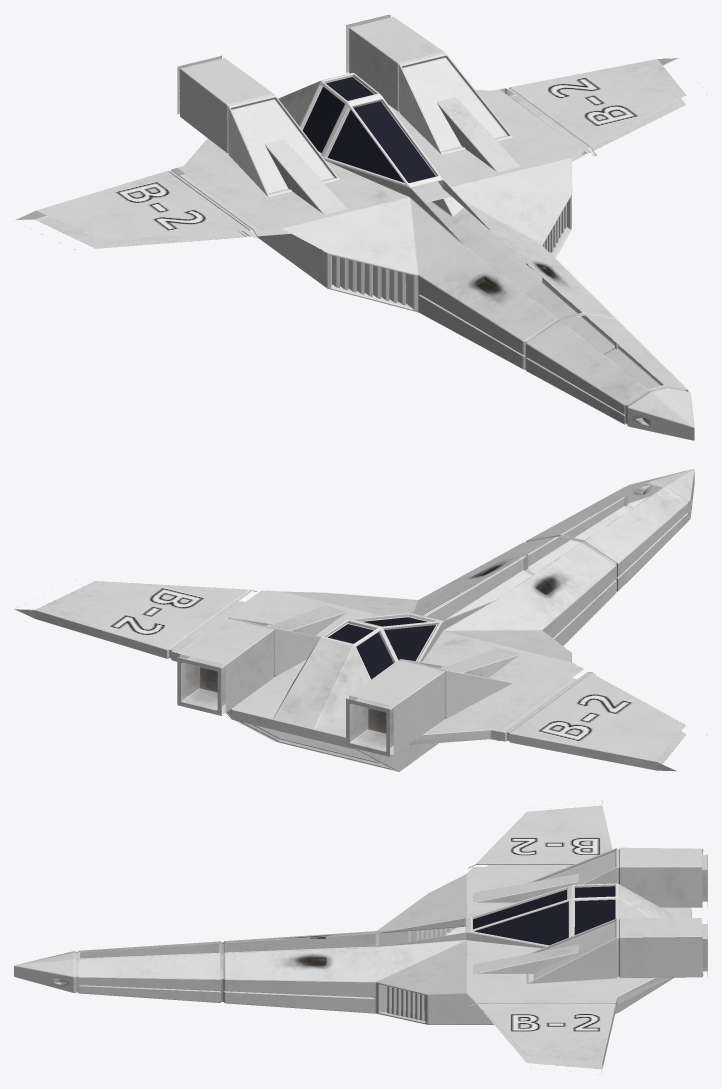
Rendered from intercepter.dae.
3 views of the same model, one above another, from view 1: azimuth 30°, elevation 25°; view 2: azimuth 150°, elevation 25°; view 3: azimuth 270°, elevation 25° (orthographic). The views are drawn at different scales.
Visible parts, largest first — view 1: Interceptor; view 2: Interceptor; view 3: Interceptor.
Part boxes in pixels (<box>): Interceptor: <box>15,15,706,440</box>; Interceptor: <box>14,469,706,771</box>; Interceptor: <box>14,800,707,1074</box>.
Size of the model in its own units: 10.74 by 11.49 by 2.04.
1 material, 1 textured.
